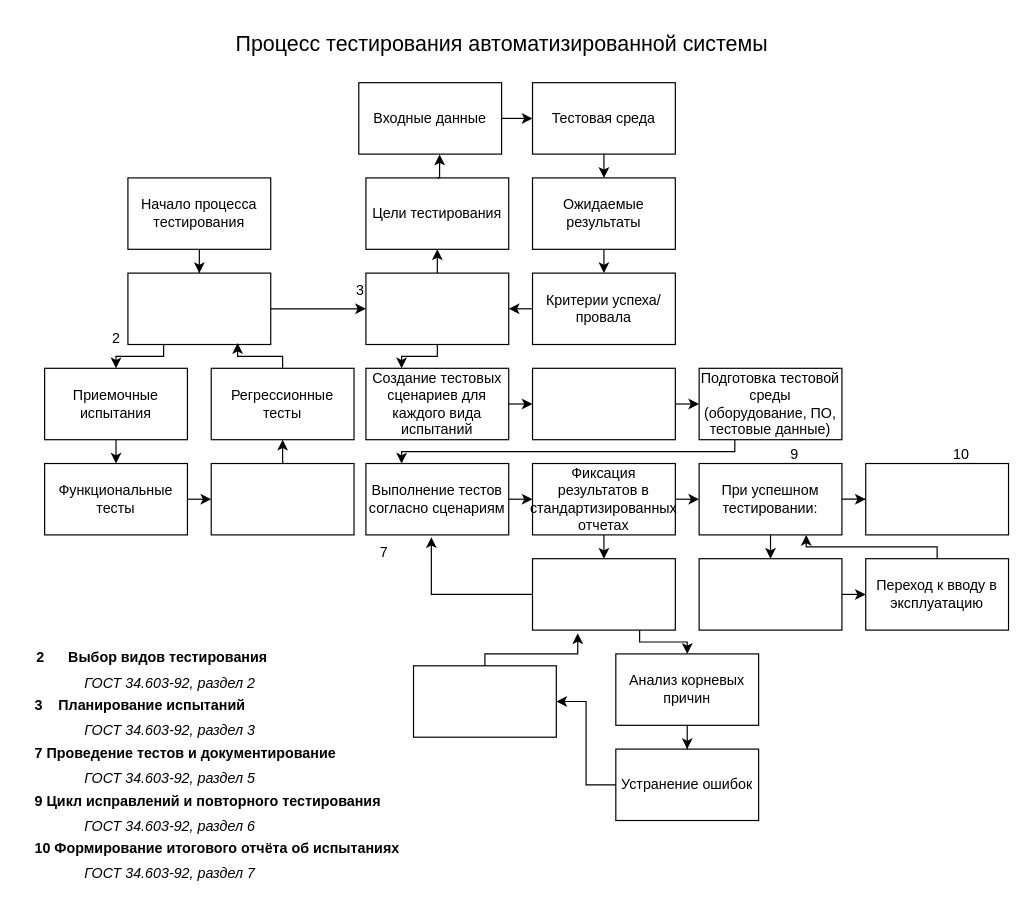
Image size: 1029x912. Some labels were removed from this diagram. The centre of each missing label's shape, as x and y in pixels:
"Завершение процесса тестирования" belongs at (937,498).
"Нагрузочные тесты" belongs at (282,498).
"Определение типов тестирования" belongs at (199,308).
"Повторное тестирование" belongs at (484,701).
"При обнаружении дефектов:" belongs at (603,594).
"Разработка структурированного плана тестирования" belongs at (437,308).
"Согласование плана тестирования с заинтересованными сторонами" belongs at (603,403).
"Формирование акта приемки" belongs at (770,594).
